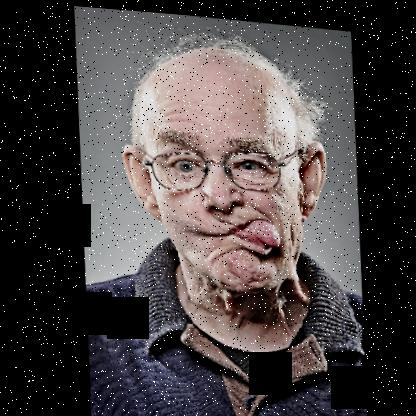Male: (112, 38, 332, 293)
